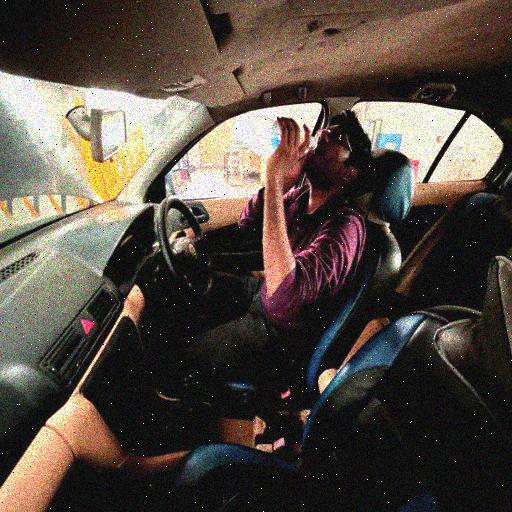Drinking: (183, 105, 380, 341)
